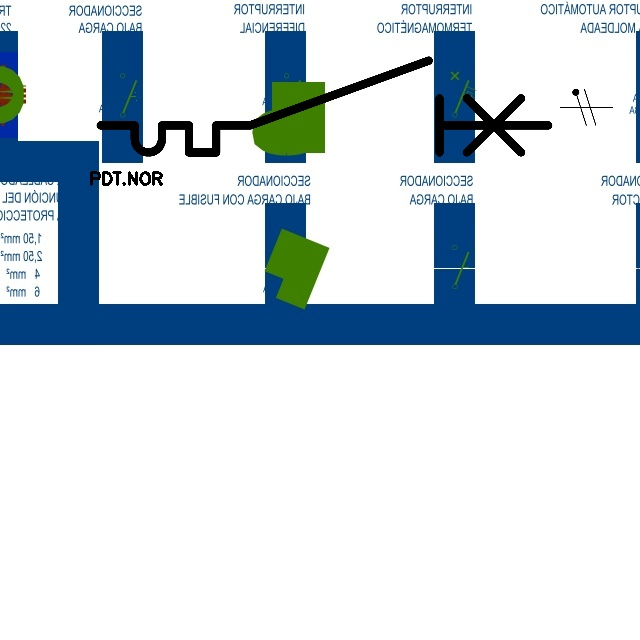interruptor_termomagnetico: (89, 49, 560, 164)
